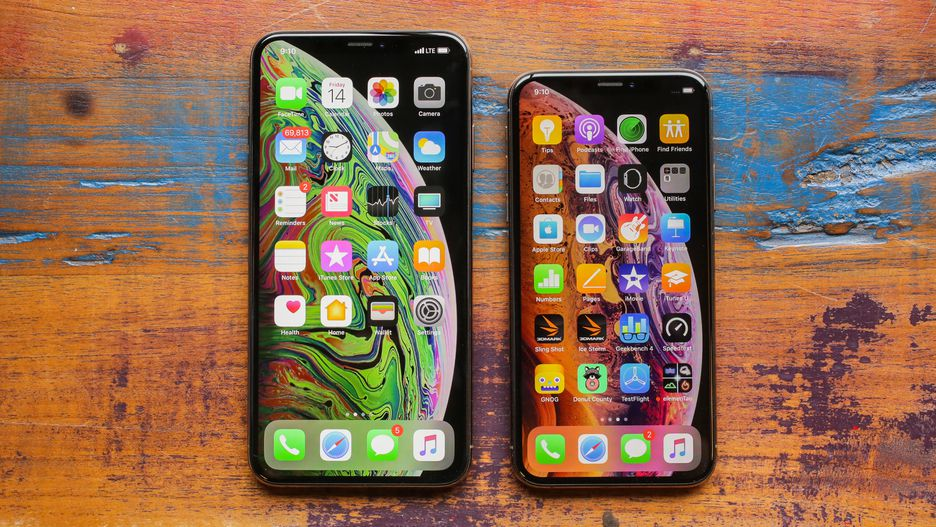phone: (244, 29, 481, 495), (502, 68, 730, 494)
